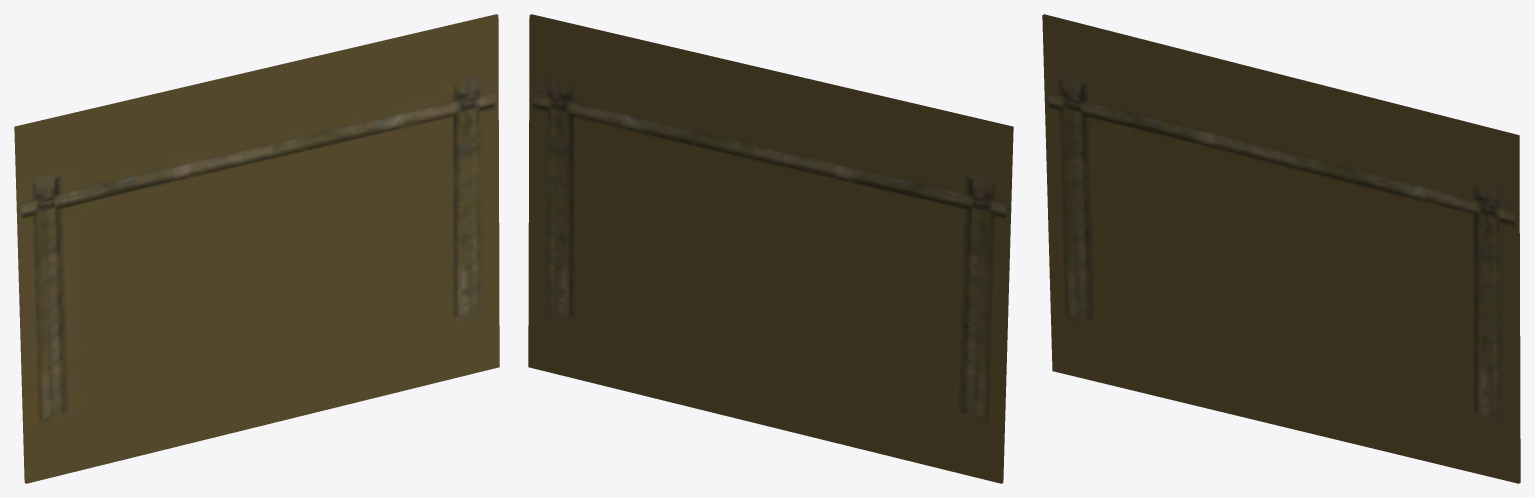
File: thm_endr_lake_rail2m_l3.fbx
3 renders of one model, left to right at view 1: azimuth 30°, elevation 25°; view 2: azimuth 150°, elevation 25°; view 3: azimuth 330°, elevation 25°, orthographic.
Visible parts, largest first — view 1: mesh_node; view 2: mesh_node; view 3: mesh_node.
Boxes of the visible parts, box(x1,y1,x2,y2) form: mesh_node: box(14, 14, 499, 483); mesh_node: box(528, 14, 1013, 483); mesh_node: box(1042, 14, 1520, 483).
Size of the model in its own units: 2.01 by 1.43 by 0.00849.
1 material, 1 textured.
